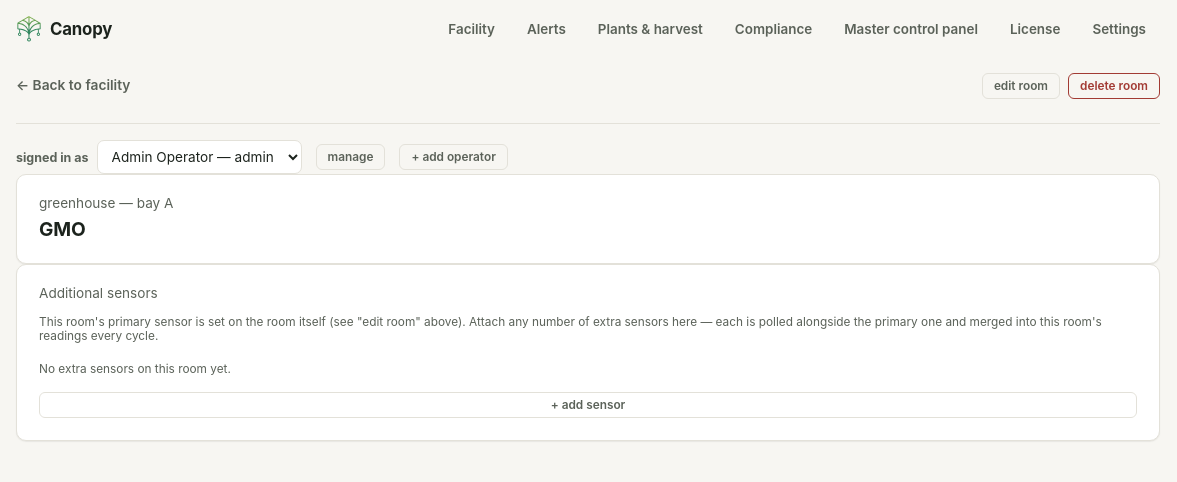
Test: RoomDetail — delete failure must not blank the page › keeps the room content and back-link visible after a failed delete, showing the error inline instead
expect the heading "GMO" is shown: met, box [39,217,86,241]
What coordinates should you click on to do the following:
click the button "delete room"
I would click on:
 (1114, 86)
Its box is [1068,73,1160,99].
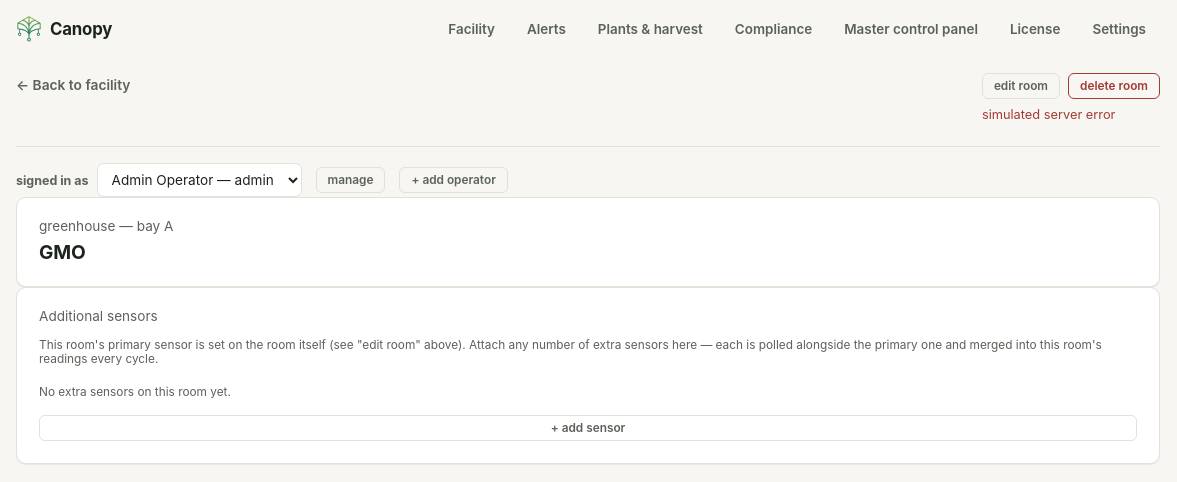
expect the heading "GMO" is shown: met, box [39,240,86,264]
expect the text "simulated server error" is shown: met, box [982,107,1115,122]
